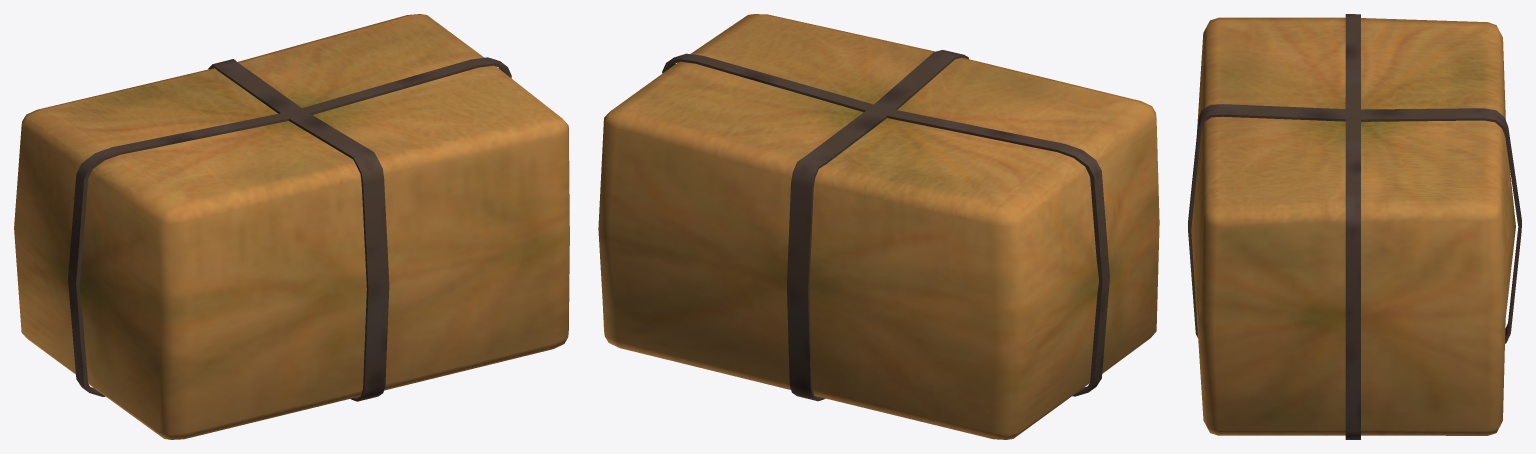
Rendered from Feno.fbx.
The picture shows the model from 3 angles, left to right: view 1: azimuth 30°, elevation 25°; view 2: azimuth 150°, elevation 25°; view 3: azimuth 270°, elevation 25°; orthographic projection.
Parts seen in each view (by area): view 1: FardoFeno; view 2: FardoFeno; view 3: FardoFeno.
Boxes of the visible parts, <box> form: FardoFeno: <box>14,14,569,439</box>; FardoFeno: <box>598,14,1159,439</box>; FardoFeno: <box>1188,14,1521,439</box>.
Size of the model in its own units: 58.42 by 31.09 by 39.11.
